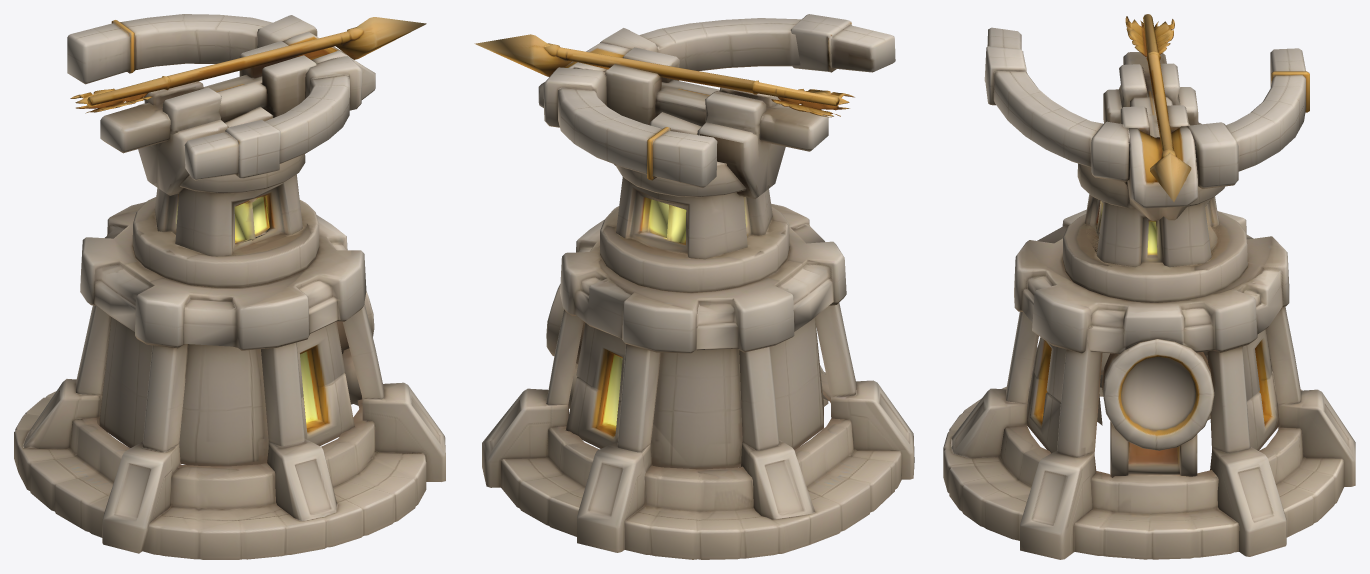
Rendered from tripo_convert_65aa89f0-87b7-451d-bc8f-d1d567039901.fbx.
3 renders of one model, left to right at view 1: azimuth 30°, elevation 25°; view 2: azimuth 150°, elevation 25°; view 3: azimuth 270°, elevation 25°, orthographic. The views are drawn at different scales.
Visible parts, largest first — view 1: tripo_node_65aa89f0; view 2: tripo_node_65aa89f0; view 3: tripo_node_65aa89f0.
Boxes of the visible parts, <box> form: tripo_node_65aa89f0: <box>14,14,445,559</box>; tripo_node_65aa89f0: <box>474,14,914,559</box>; tripo_node_65aa89f0: <box>943,14,1355,559</box>.
Bounding box in the file's own units: 0.9902 × 0.998 × 0.9355.
Materials: 1 (1 with a texture image).
